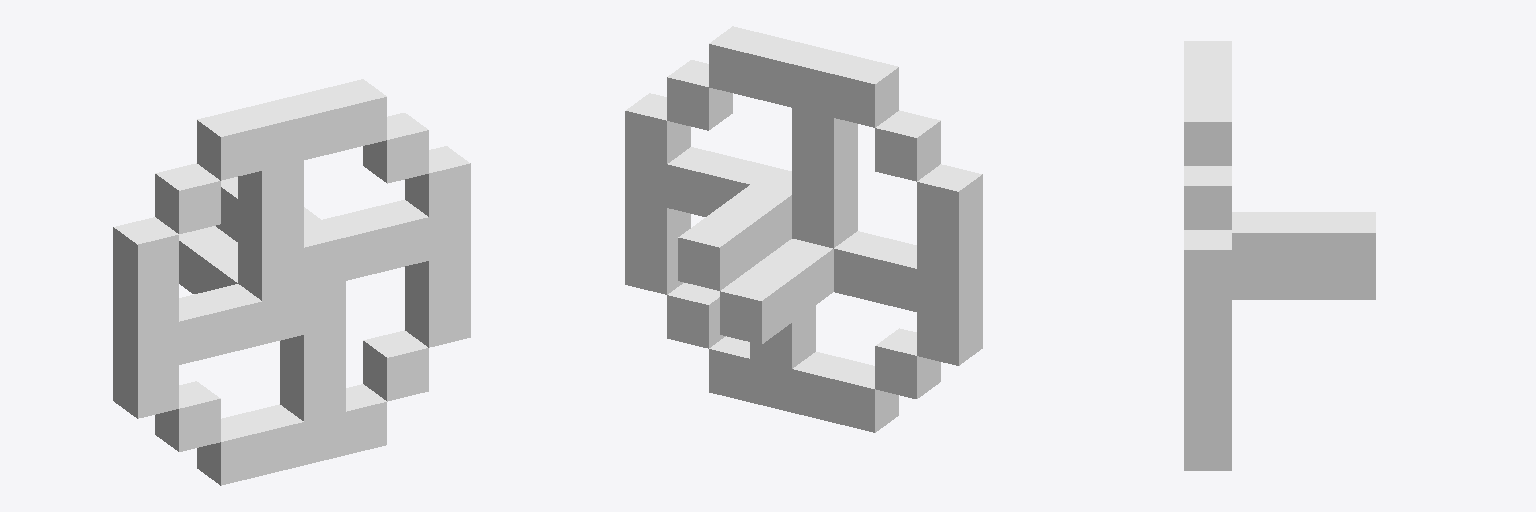
File: scanner.obj
3 renders of one model, left to right at view 1: azimuth 30°, elevation 25°; view 2: azimuth 150°, elevation 25°; view 3: azimuth 270°, elevation 25°, orthographic.
Bounding box in the file's own units: 8 × 8 × 4.